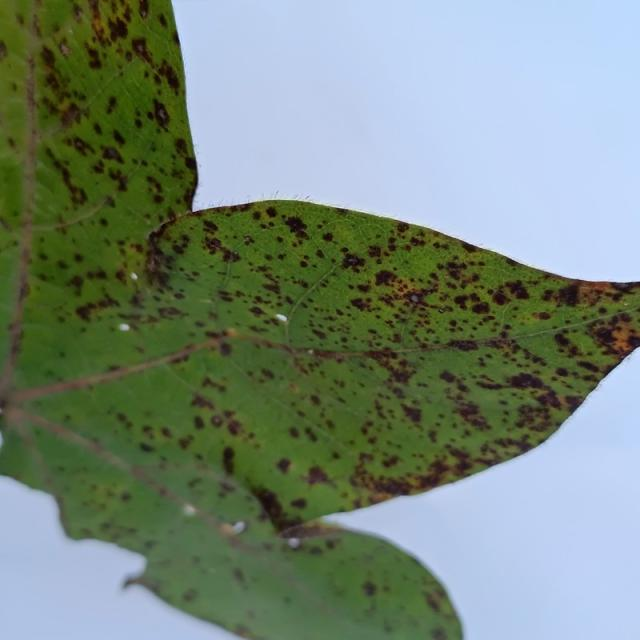Bacterial_Blight: (368, 439, 495, 495), (50, 152, 88, 205), (590, 316, 637, 355), (508, 400, 560, 432), (73, 293, 124, 323), (253, 487, 286, 524), (448, 395, 486, 426), (503, 370, 550, 393), (206, 237, 242, 264), (383, 360, 418, 386), (147, 258, 172, 293), (89, 4, 110, 41), (159, 63, 181, 96), (304, 464, 334, 486), (150, 97, 170, 127), (502, 280, 530, 301), (256, 362, 280, 386), (60, 104, 83, 129), (446, 338, 487, 352), (283, 214, 310, 235), (560, 282, 582, 307), (373, 268, 400, 287), (284, 420, 305, 444), (399, 403, 422, 424), (221, 445, 236, 477), (131, 37, 150, 61), (189, 393, 214, 411), (341, 253, 366, 271), (200, 375, 226, 392), (404, 290, 431, 306), (349, 295, 373, 312), (424, 590, 442, 612), (146, 175, 163, 197), (458, 239, 482, 254), (102, 146, 122, 163), (227, 419, 244, 437), (491, 290, 510, 306), (261, 281, 281, 296), (175, 137, 190, 157), (177, 434, 194, 451), (554, 332, 572, 348), (612, 280, 636, 292), (470, 301, 490, 315), (181, 587, 198, 603), (112, 128, 127, 146), (453, 293, 471, 308), (439, 369, 458, 383), (289, 496, 308, 510), (276, 457, 292, 473), (304, 426, 319, 443), (362, 580, 377, 597), (232, 567, 245, 585), (192, 414, 206, 430), (202, 219, 218, 233), (235, 623, 251, 637), (138, 441, 155, 453), (219, 341, 232, 356), (185, 156, 197, 172), (264, 206, 278, 219), (309, 394, 321, 406), (211, 415, 223, 427), (322, 231, 335, 242), (73, 4, 83, 18), (60, 43, 70, 56), (120, 491, 132, 501), (209, 238, 221, 248), (299, 259, 309, 269), (243, 235, 253, 245), (125, 50, 133, 62), (140, 9, 147, 18), (488, 288, 496, 295), (411, 295, 418, 302), (438, 307, 445, 313)
Cotton: (0, 0, 639, 639)
